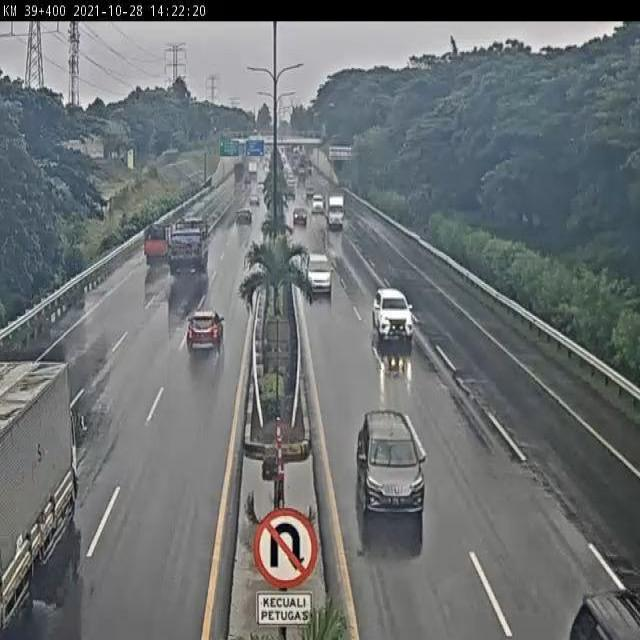car: (353, 406, 429, 518), (372, 286, 417, 342), (183, 308, 227, 360), (305, 253, 335, 299), (233, 206, 252, 230), (292, 203, 309, 225), (246, 187, 261, 209), (310, 192, 326, 212)
small truck: (143, 221, 173, 268)
truck-l-: (0, 353, 80, 640), (165, 216, 211, 273)
truck-s-: (324, 188, 346, 229)
